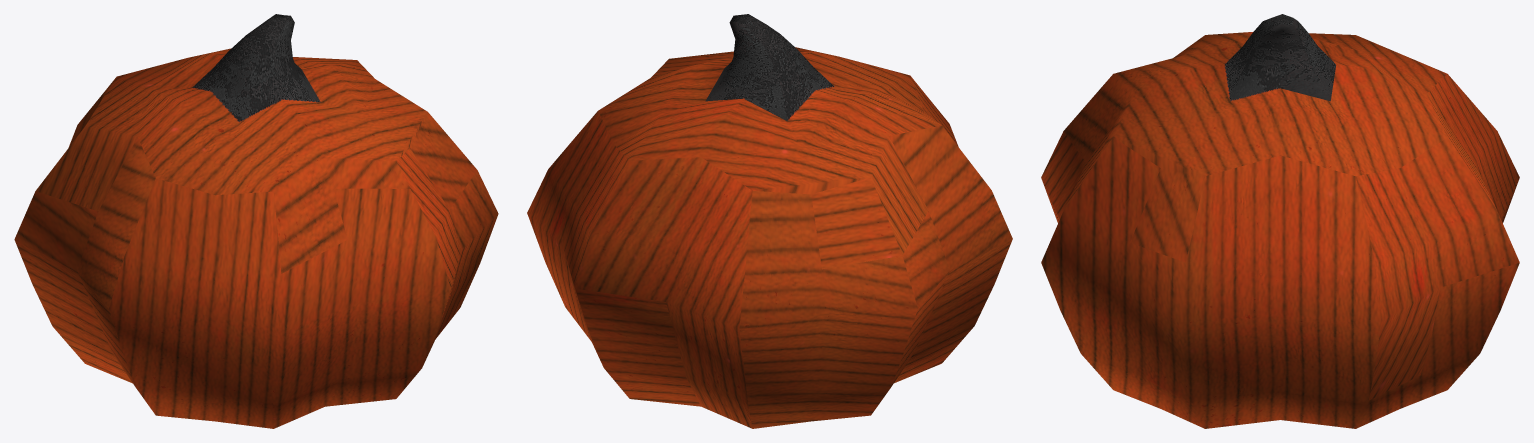
Rendered from pumpkin.fbx.
3 renders of one model, left to right at view 1: azimuth 30°, elevation 25°; view 2: azimuth 150°, elevation 25°; view 3: azimuth 270°, elevation 25°, orthographic. The views are drawn at different scales.
Parts seen in each view (by area): view 1: pumpkin; view 2: pumpkin; view 3: pumpkin.
Part boxes in pixels (box(x1,y1,x2,y2)): pumpkin: box(14, 14, 498, 428); pumpkin: box(527, 14, 1012, 428); pumpkin: box(1041, 14, 1519, 428).
Size of the model in its own units: 197 by 160 by 197.
Materials: 1 (1 with a texture image).
